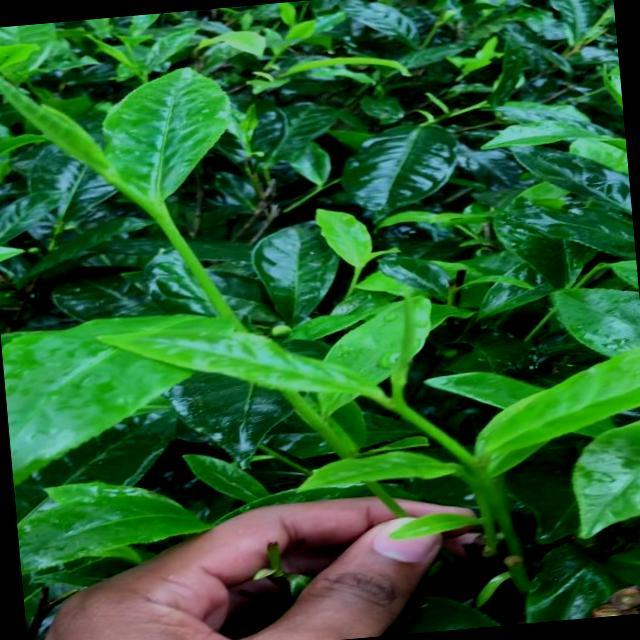Stem: (152, 205, 185, 248), (394, 399, 434, 433), (352, 272, 360, 284)
